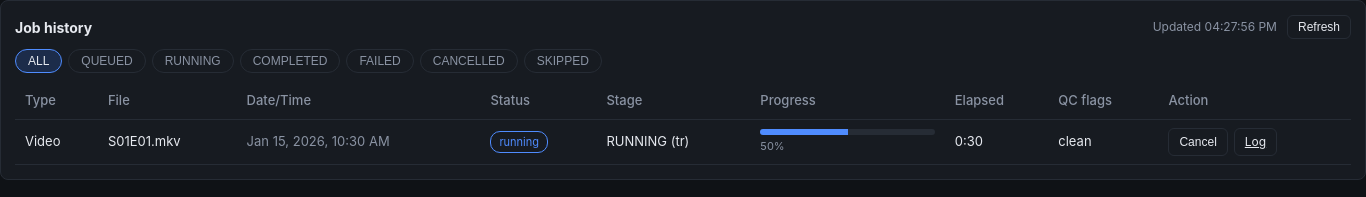
JobsPage › clicking the FAILED tab (no matching jobs) shows the empty state, not an error
Expected: the text "S01E01.mkv" is shown, [98,119,237,164]
Click the tab "FAILED" at (380, 61), box [346,49,414,73]
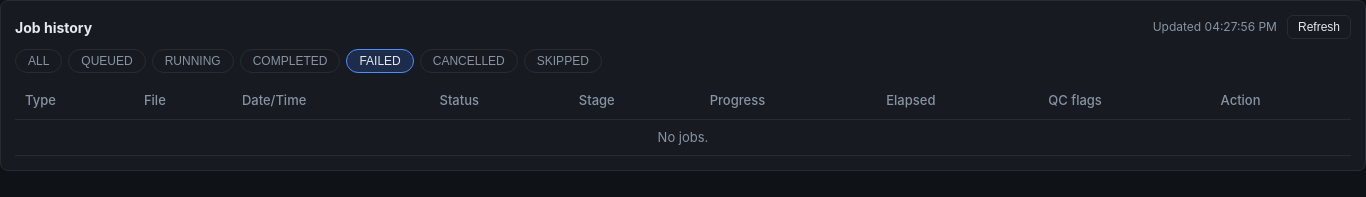
Expected: the text "No jobs." is shown, [15,119,1351,156]
